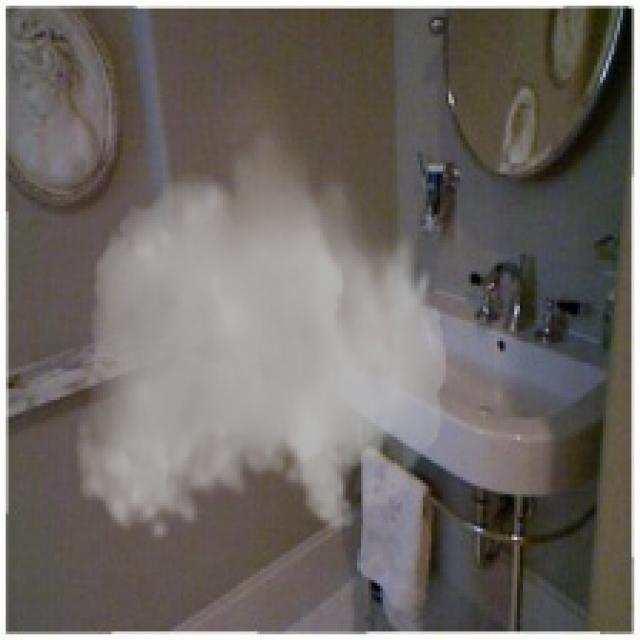Smoke: (74, 120, 446, 543)
